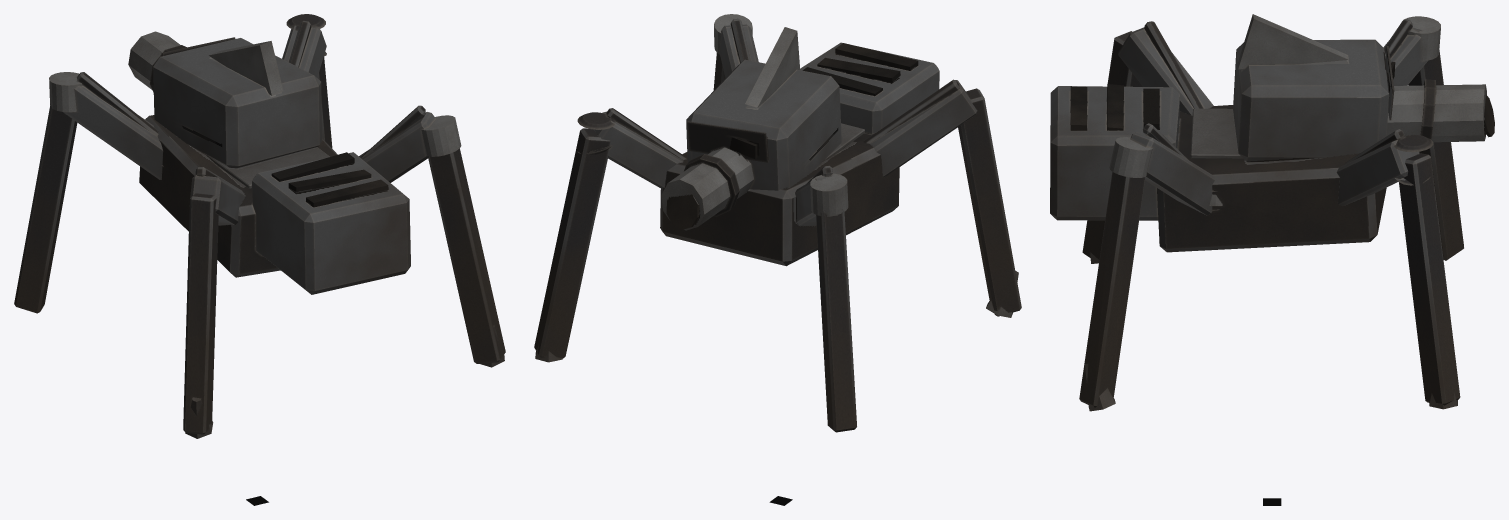
Rendered from chs_skitter_wreck.fbx.
3 views of the same model, side by side, from view 1: azimuth 30°, elevation 25°; view 2: azimuth 150°, elevation 25°; view 3: azimuth 270°, elevation 25° (orthographic). The views are drawn at different scales.
Parts seen in each view (by area): view 1: base_bar, torso_bar, shinBR_bar, shinBL_bar, shinFL_bar, thighFL_bar, thighBR_bar, thighFR_bar, thighBL_bar, shinFR_bar; view 2: torso_bar, base_bar, shinFR_bar, shinBL_bar, shinFL_bar, thighBL_bar, thighFR_bar, thighFL_bar, thighBR_bar; view 3: base_bar, torso_bar, shinFR_bar, shinBR_bar, thighBR_bar, thighFR_bar, thighBL_bar, shinFL_bar, thighFL_bar, shinBL_bar.
Part boxes in pixels (<box>): base_bar: <box>139,115,410,294</box>; torso_bar: <box>128,31,322,168</box>; shinBR_bar: <box>428,148,505,367</box>; shinBL_bar: <box>183,193,218,438</box>; shinFL_bar: <box>14,104,77,313</box>; thighFL_bar: <box>49,72,163,179</box>; thighBR_bar: <box>359,105,461,182</box>; thighFR_bar: <box>282,14,326,77</box>; thighBL_bar: <box>189,167,245,225</box>; shinFR_bar: <box>317,56,332,148</box>; torso_bar: <box>661,27,841,230</box>; base_bar: <box>660,42,939,266</box>; shinFR_bar: <box>534,128,610,362</box>; shinBL_bar: <box>958,88,1021,317</box>; shinFL_bar: <box>816,209,856,432</box>; thighBL_bar: <box>863,79,976,176</box>; thighFR_bar: <box>577,108,686,189</box>; thighFL_bar: <box>795,165,848,225</box>; thighBR_bar: <box>714,14,758,77</box>; base_bar: <box>1050,84,1386,252</box>; torso_bar: <box>1233,14,1494,161</box>; shinFR_bar: <box>1399,153,1460,409</box>; shinBR_bar: <box>1079,172,1145,411</box>; thighBR_bar: <box>1109,123,1214,215</box>; thighFR_bar: <box>1336,129,1433,206</box>; thighBL_bar: <box>1118,21,1213,115</box>; shinFL_bar: <box>1408,50,1463,260</box>; thighFL_bar: <box>1383,16,1440,85</box>; shinBL_bar: <box>1082,31,1142,263</box>.
Bounding box in the file's own units: 430 × 589 × 489.
Materials: 2 (2 with a texture image).
